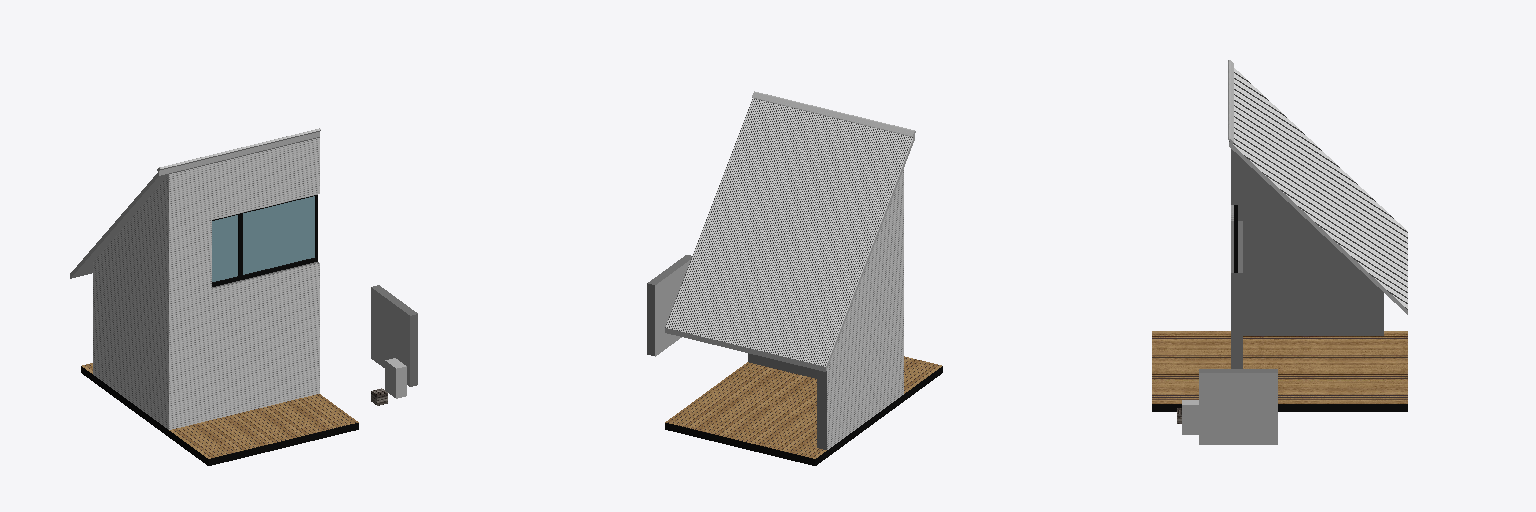
The picture shows the model from 3 angles: view 1: azimuth 30°, elevation 25°; view 2: azimuth 150°, elevation 25°; view 3: azimuth 270°, elevation 25°; orthographic projection.
Parts seen in each view (by area): view 1: UNITY_Bois_Blanc_Horizontal_Existant_2, Aluminex_Glass, UNITY_Plafond_Planche_Cedre_Partie_Angle, UNITY_Aluminex_Frame, UNITY_Beton, UNITY_Gris, Mur_par_défaut, UNITY_Teak; view 2: UNITY_Taule_4"_90deg, UNITY_Bois_Blanc_Horizontal_Existant_2, UNITY_Plafond_Planche_Cedre_Partie_Angle, UNITY_Aluminex_Frame, Mur_par_défaut, UNITY_Beton, UNITY_Gris, UNITY_Crete, UNITY_Gypsum_Wall_Board; view 3: UNITY_Gypsum_Wall_Board, UNITY_Plafond_Planche_Cedre_Partie_Angle, UNITY_Taule_4"_90deg, UNITY_Brique, Mur_par_défaut, UNITY_Aluminex_Frame, UNITY_Gris, UNITY_Teak.
Boxes of the visible parts, x1=… form: UNITY_Bois_Blanc_Horizontal_Existant_2: x1=93, y1=138, x2=319, y2=429; Aluminex_Glass: x1=212, y1=196, x2=314, y2=281; UNITY_Plafond_Planche_Cedre_Partie_Angle: x1=82, y1=363, x2=358, y2=458; UNITY_Aluminex_Frame: x1=81, y1=195, x2=358, y2=465; UNITY_Beton: x1=371, y1=287, x2=409, y2=386; UNITY_Gris: x1=70, y1=132, x2=319, y2=278; Mur_par_défaut: x1=372, y1=285, x2=417, y2=386; UNITY_Teak: x1=385, y1=358, x2=406, y2=398; UNITY_Taule_4"_90deg: x1=665, y1=98, x2=912, y2=366; UNITY_Bois_Blanc_Horizontal_Existant_2: x1=827, y1=169, x2=903, y2=449; UNITY_Plafond_Planche_Cedre_Partie_Angle: x1=665, y1=356, x2=941, y2=458; UNITY_Aluminex_Frame: x1=665, y1=366, x2=942, y2=465; Mur_par_défaut: x1=647, y1=255, x2=826, y2=449; UNITY_Beton: x1=655, y1=260, x2=690, y2=356; UNITY_Gris: x1=665, y1=135, x2=914, y2=371; UNITY_Crete: x1=752, y1=91, x2=915, y2=137; UNITY_Gypsum_Wall_Board: x1=748, y1=353, x2=816, y2=378; UNITY_Gypsum_Wall_Board: x1=1231, y1=160, x2=1383, y2=335; UNITY_Plafond_Planche_Cedre_Partie_Angle: x1=1152, y1=331, x2=1407, y2=403; UNITY_Taule_4"_90deg: x1=1229, y1=68, x2=1407, y2=309; UNITY_Brique: x1=1199, y1=373, x2=1277, y2=444; Mur_par_défaut: x1=1199, y1=149, x2=1277, y2=372; UNITY_Aluminex_Frame: x1=1152, y1=205, x2=1407, y2=411; UNITY_Gris: x1=1229, y1=142, x2=1407, y2=314; UNITY_Teak: x1=1182, y1=400, x2=1198, y2=434.
Size of the model in its own units: 23.44 by 25.09 by 21.25.
13 materials, 4 textured.